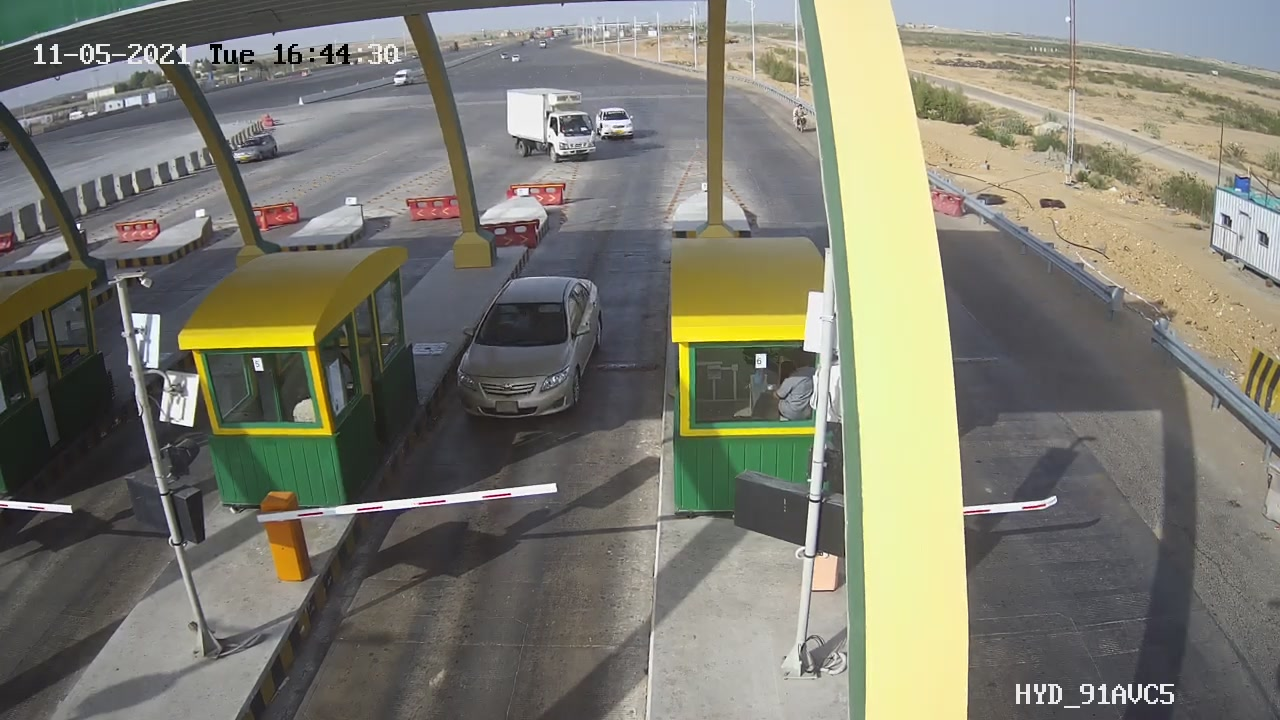F1: (426, 258, 626, 446)
